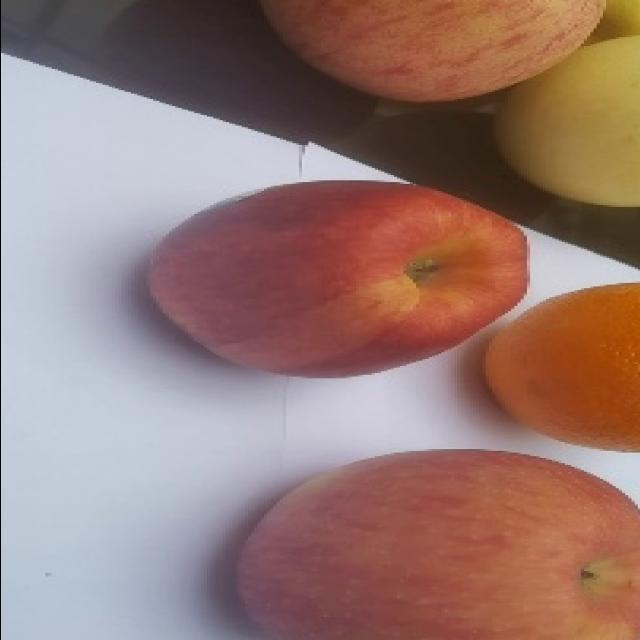Apple: (139, 176, 537, 380), (227, 444, 640, 639), (263, 0, 605, 111)
Orange: (491, 287, 640, 459)
